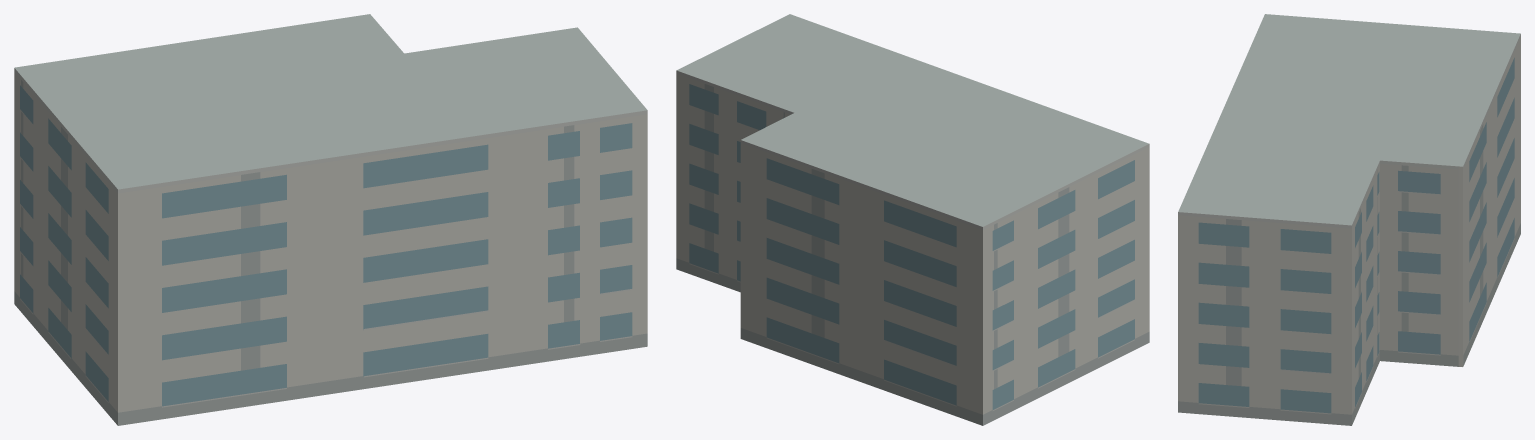
File: survey-upis-32910886.glb
3 views of the same model, side by side, from view 1: azimuth 30°, elevation 25°; view 2: azimuth 150°, elevation 25°; view 3: azimuth 270°, elevation 25° (orthographic). The views are drawn at different scales.
Parts seen in each view (by area): view 1: survey-upis-32910886.tmp; view 2: survey-upis-32910886.tmp; view 3: survey-upis-32910886.tmp.
Part boxes in pixels (x1,y1,x2,y2): survey-upis-32910886.tmp: (14, 14, 647, 425); survey-upis-32910886.tmp: (676, 14, 1149, 425); survey-upis-32910886.tmp: (1178, 14, 1520, 425).
Size of the model in its own units: 34.51 by 15.25 by 23.64.
